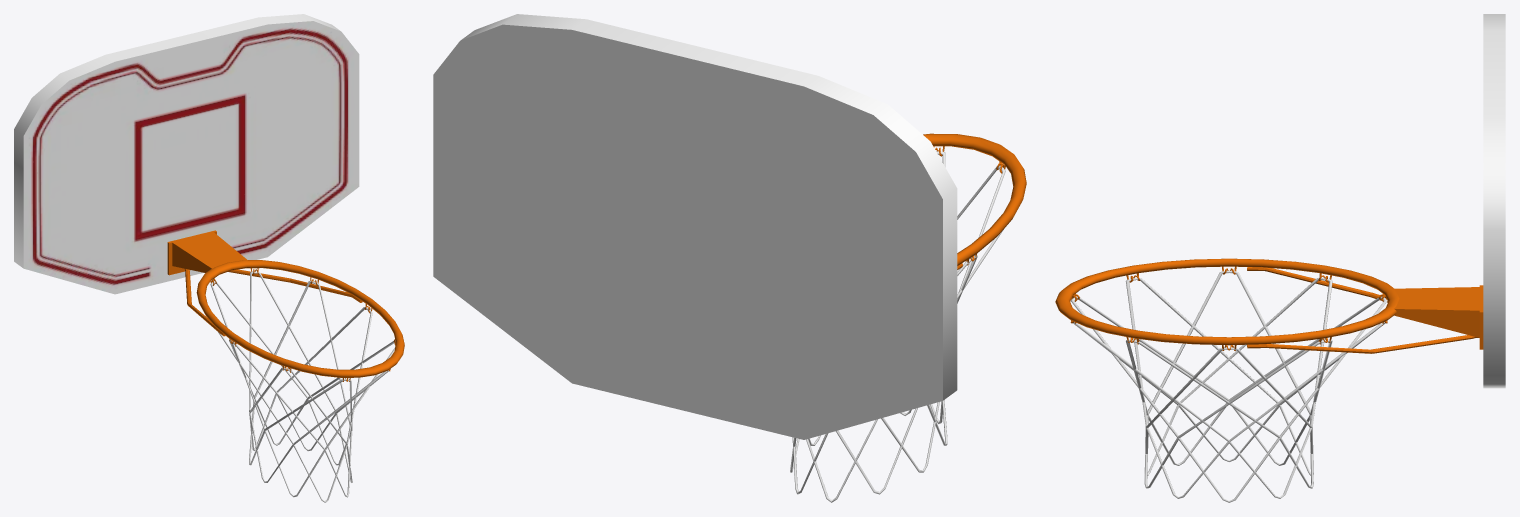
File: sh-scopia-basketball-net-and-board.glb
3 renders of one model, left to right at view 1: azimuth 30°, elevation 25°; view 2: azimuth 150°, elevation 25°; view 3: azimuth 270°, elevation 25°, orthographic. The views are drawn at different scales.
Parts seen in each view (by area): view 1: Cube, Circle, Circle.001; view 2: Cube, Circle.001, Circle; view 3: Circle, Circle.001, Cube.
Boxes of the visible parts, x1,y1,x2,y2 form: Cube: (14, 14, 359, 294); Circle: (167, 230, 404, 381); Circle.001: (210, 271, 395, 502); Cube: (433, 14, 957, 439); Circle.001: (790, 151, 1005, 502); Circle: (923, 133, 1026, 269); Circle: (1055, 258, 1483, 353); Circle.001: (1071, 271, 1387, 502); Cube: (1483, 14, 1505, 388).
Bounding box in the file's own units: 1 × 1 × 1.
Materials: 3 (1 with a texture image).
